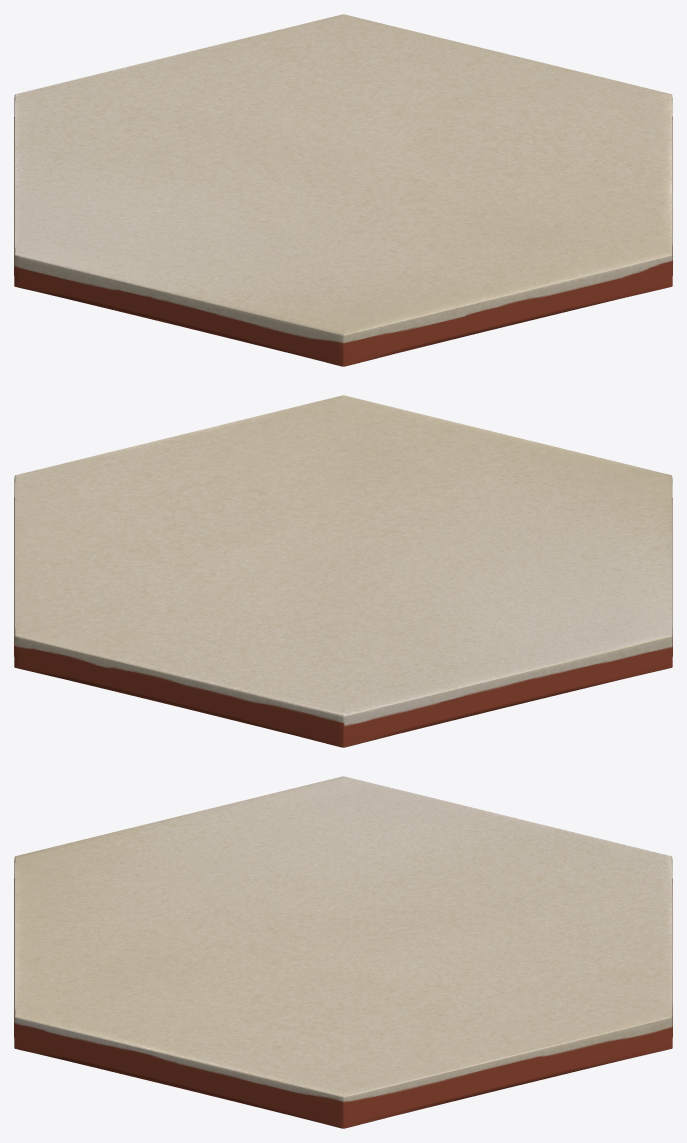
The model's file is marrakech_arena.glb.
The picture shows the model from 3 angles, top to bottom: view 1: azimuth 30°, elevation 25°; view 2: azimuth 150°, elevation 25°; view 3: azimuth 270°, elevation 25°; orthographic projection.
Parts seen in each view (by area): view 1: 3DSMeshMatrix; view 2: 3DSMeshMatrix; view 3: 3DSMeshMatrix.
Boxes of the visible parts, x1,y1,x2,y2 form: 3DSMeshMatrix: (14, 14, 672, 366); 3DSMeshMatrix: (14, 395, 672, 747); 3DSMeshMatrix: (14, 776, 672, 1128).
Size of the model in its own units: 16.96 by 0.8 by 14.72.
1 material, 1 textured.
